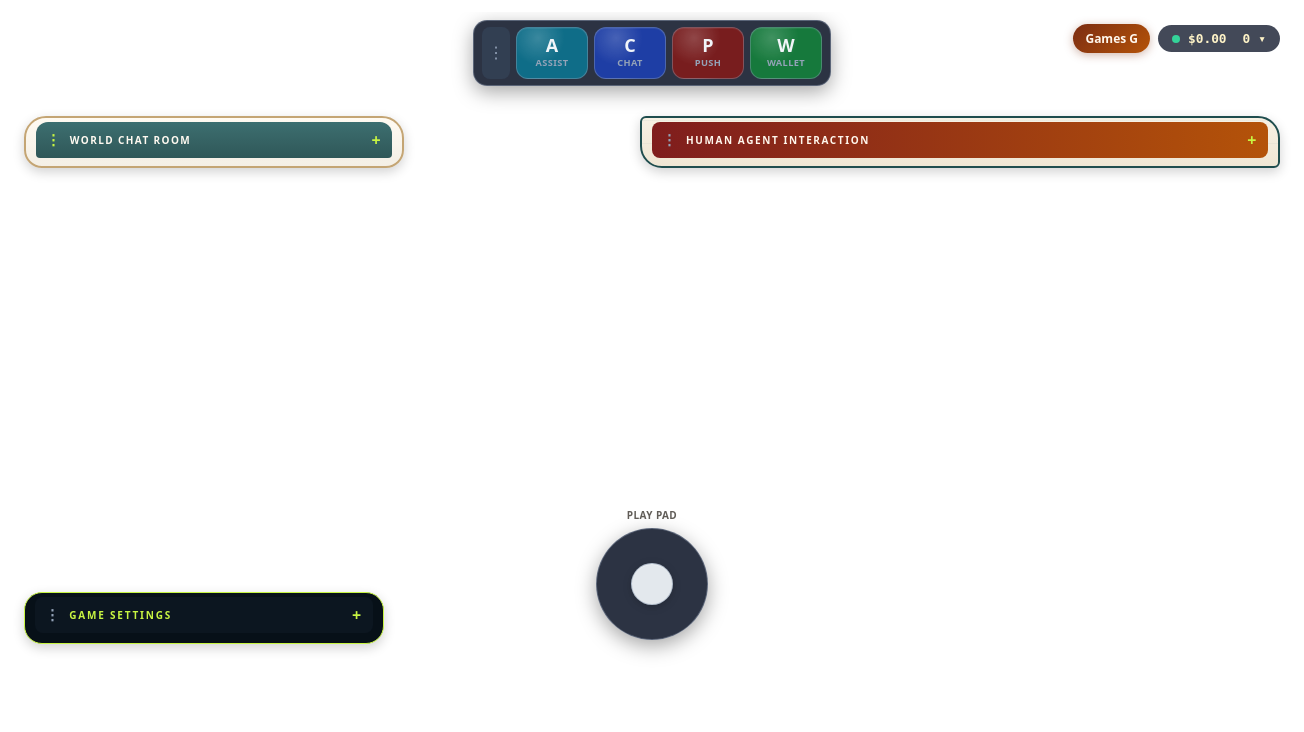
Game shell › collapses a panel on a title click and keeps compact panels closed until opened
Click the button with aria-label "move world chat": {"x": 130, "y": 140} [36,122,392,158]
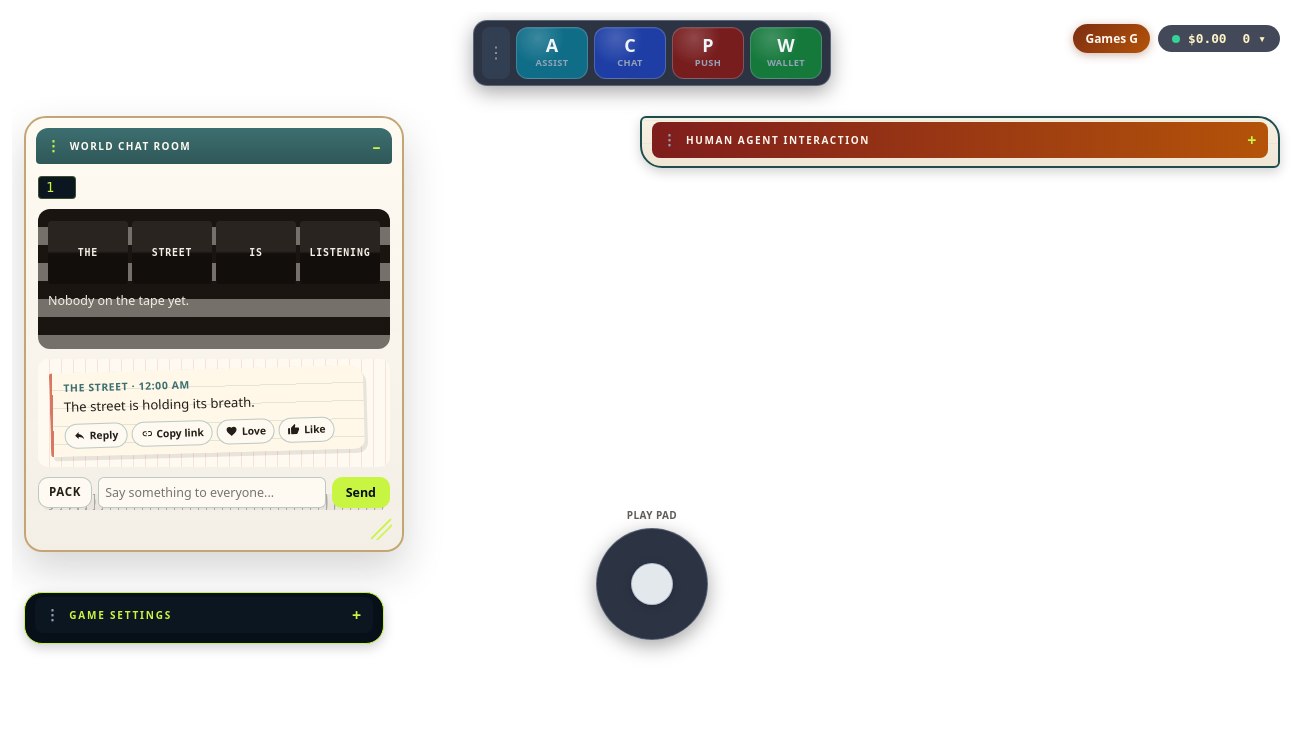
Now the element "World chat room" is expanded, box [24,116,404,552]
Click the button with aria-label "move world chat": {"x": 130, "y": 146} [36,128,392,164]
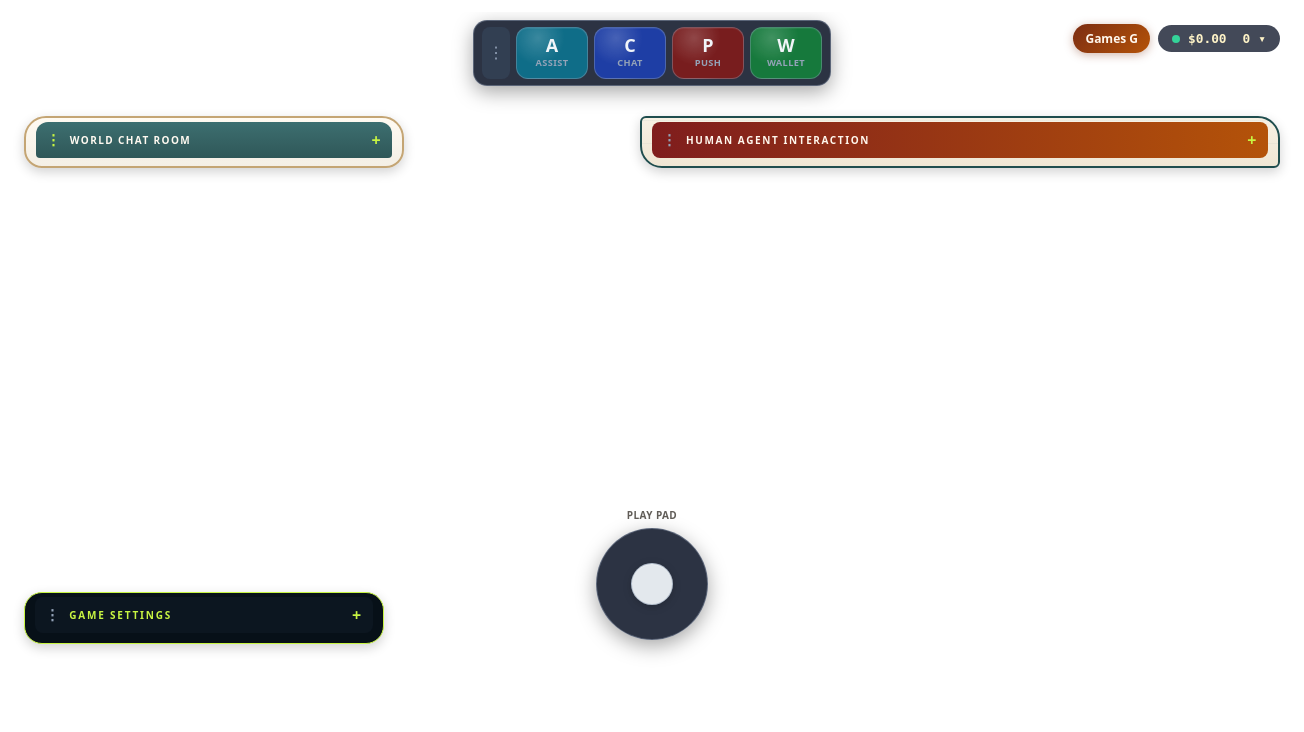
Now the element "⋮ World chat room +" is collapsed, box [24,116,404,168]
